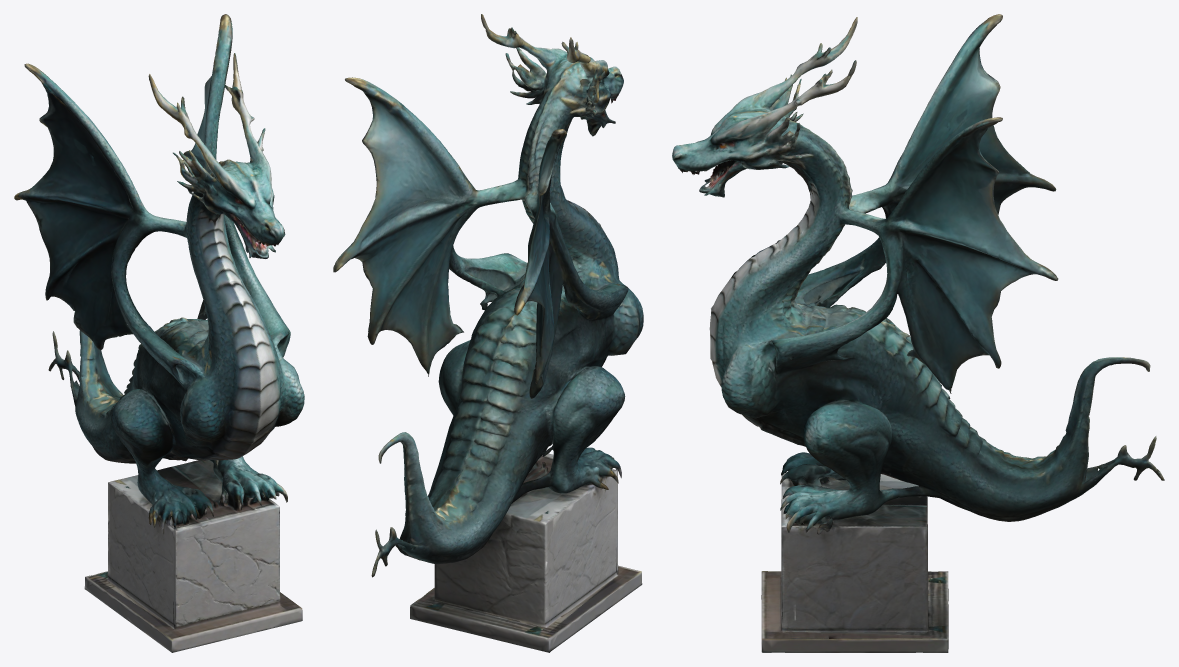
File: meshy_0197270d-1e0e-754a-b9d6-608d796d592e.glb
3 renders of one model, left to right at view 1: azimuth 30°, elevation 25°; view 2: azimuth 150°, elevation 25°; view 3: azimuth 270°, elevation 25°, orthographic. The views are drawn at different scales.
Size of the model in its own units: 0.7862 by 2 by 1.54.
1 material, 1 textured.
